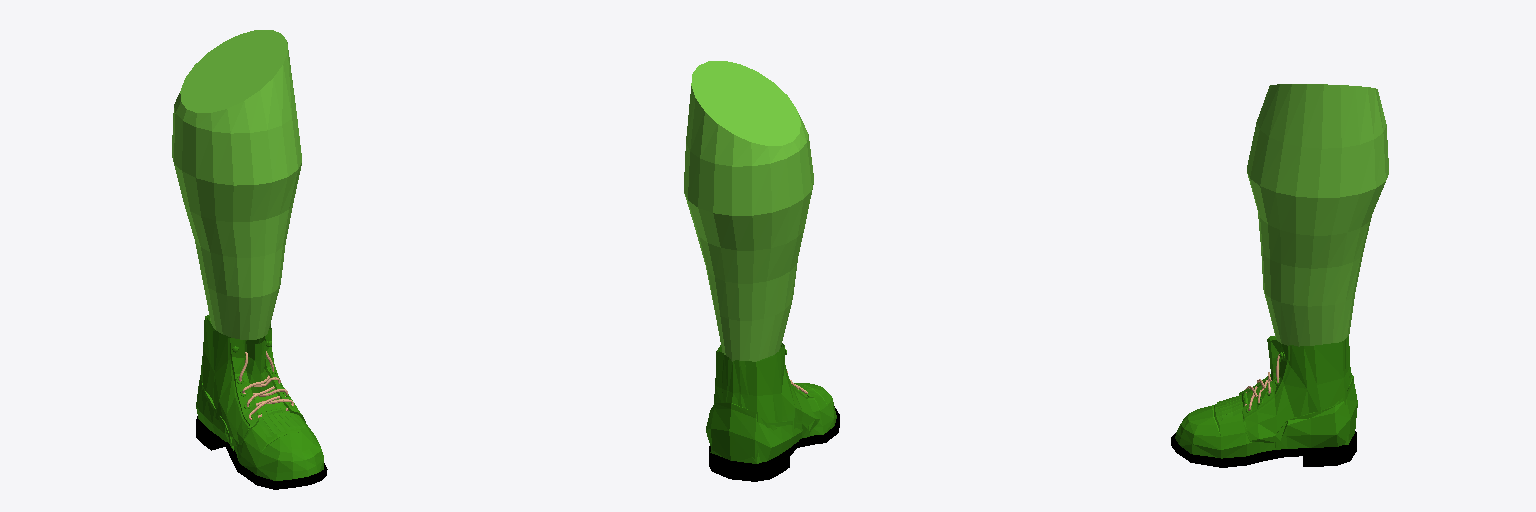
The picture shows the model from 3 angles: view 1: azimuth 30°, elevation 25°; view 2: azimuth 150°, elevation 25°; view 3: azimuth 270°, elevation 25°; orthographic projection.
Visible parts, largest first — view 1: polySurface103; view 2: polySurface103; view 3: polySurface103.
Part boxes in pixels (x1,y1,x2,y2): polySurface103: (172,30,327,489); polySurface103: (684,61,839,481); polySurface103: (1171,84,1388,467).
Bounding box in the file's own units: 0.7281 × 2.47 × 1.26.
Materials: 2 (2 with a texture image).